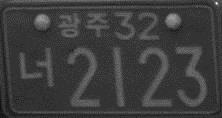1: (109, 43, 126, 111)
2: (136, 45, 172, 109), (65, 46, 101, 109), (136, 10, 160, 42)
3: (174, 43, 208, 108), (111, 9, 135, 42)
광주_O: (57, 11, 109, 39)
너: (17, 44, 54, 89)
